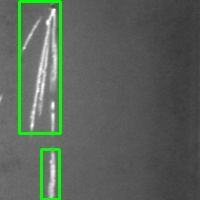scratches: (19, 1, 60, 133), (41, 149, 59, 199)
